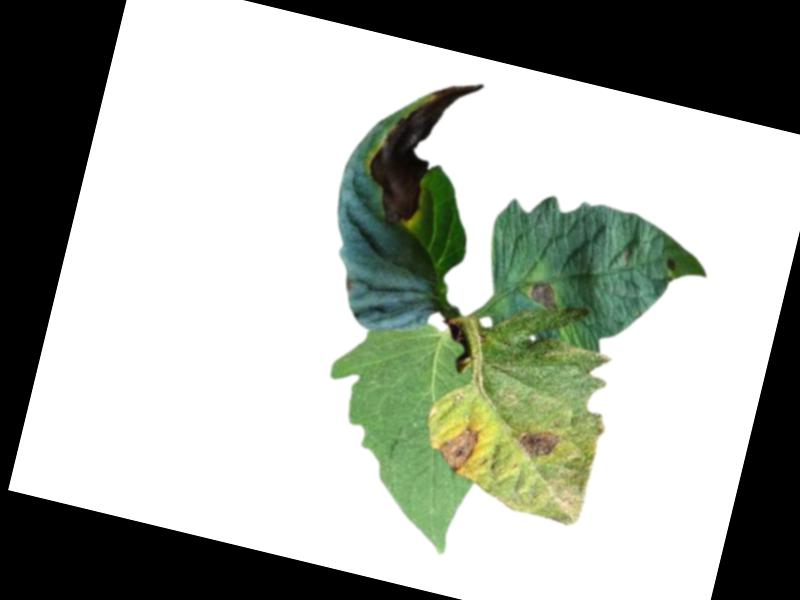Early_blight: (355, 60, 486, 241), (431, 420, 481, 475), (513, 423, 561, 465), (523, 277, 562, 313), (660, 256, 680, 274)
healthy: (293, 302, 506, 560)
